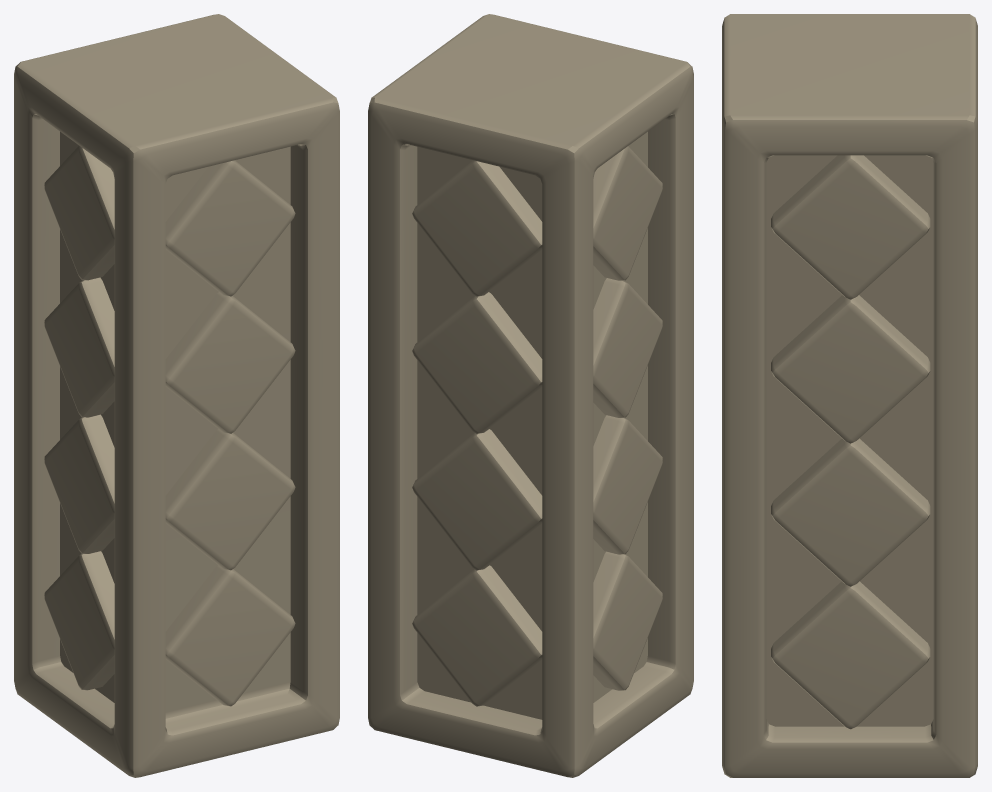
The model's file is TempleProps_002.fbx.
3 views of the same model, side by side, from view 1: azimuth 30°, elevation 25°; view 2: azimuth 150°, elevation 25°; view 3: azimuth 270°, elevation 25° (orthographic). The views are drawn at different scales.
Visible parts, largest first — view 1: TempleProps_002; view 2: TempleProps_002; view 3: TempleProps_002.
Part boxes in pixels (bbox=[...]): TempleProps_002: bbox=[14, 14, 339, 777]; TempleProps_002: bbox=[368, 14, 693, 777]; TempleProps_002: bbox=[722, 14, 977, 777].
Size of the model in its own units: 0.4677 by 1.34 by 0.4677.
